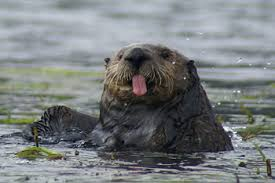otter: (88, 26, 234, 159)
